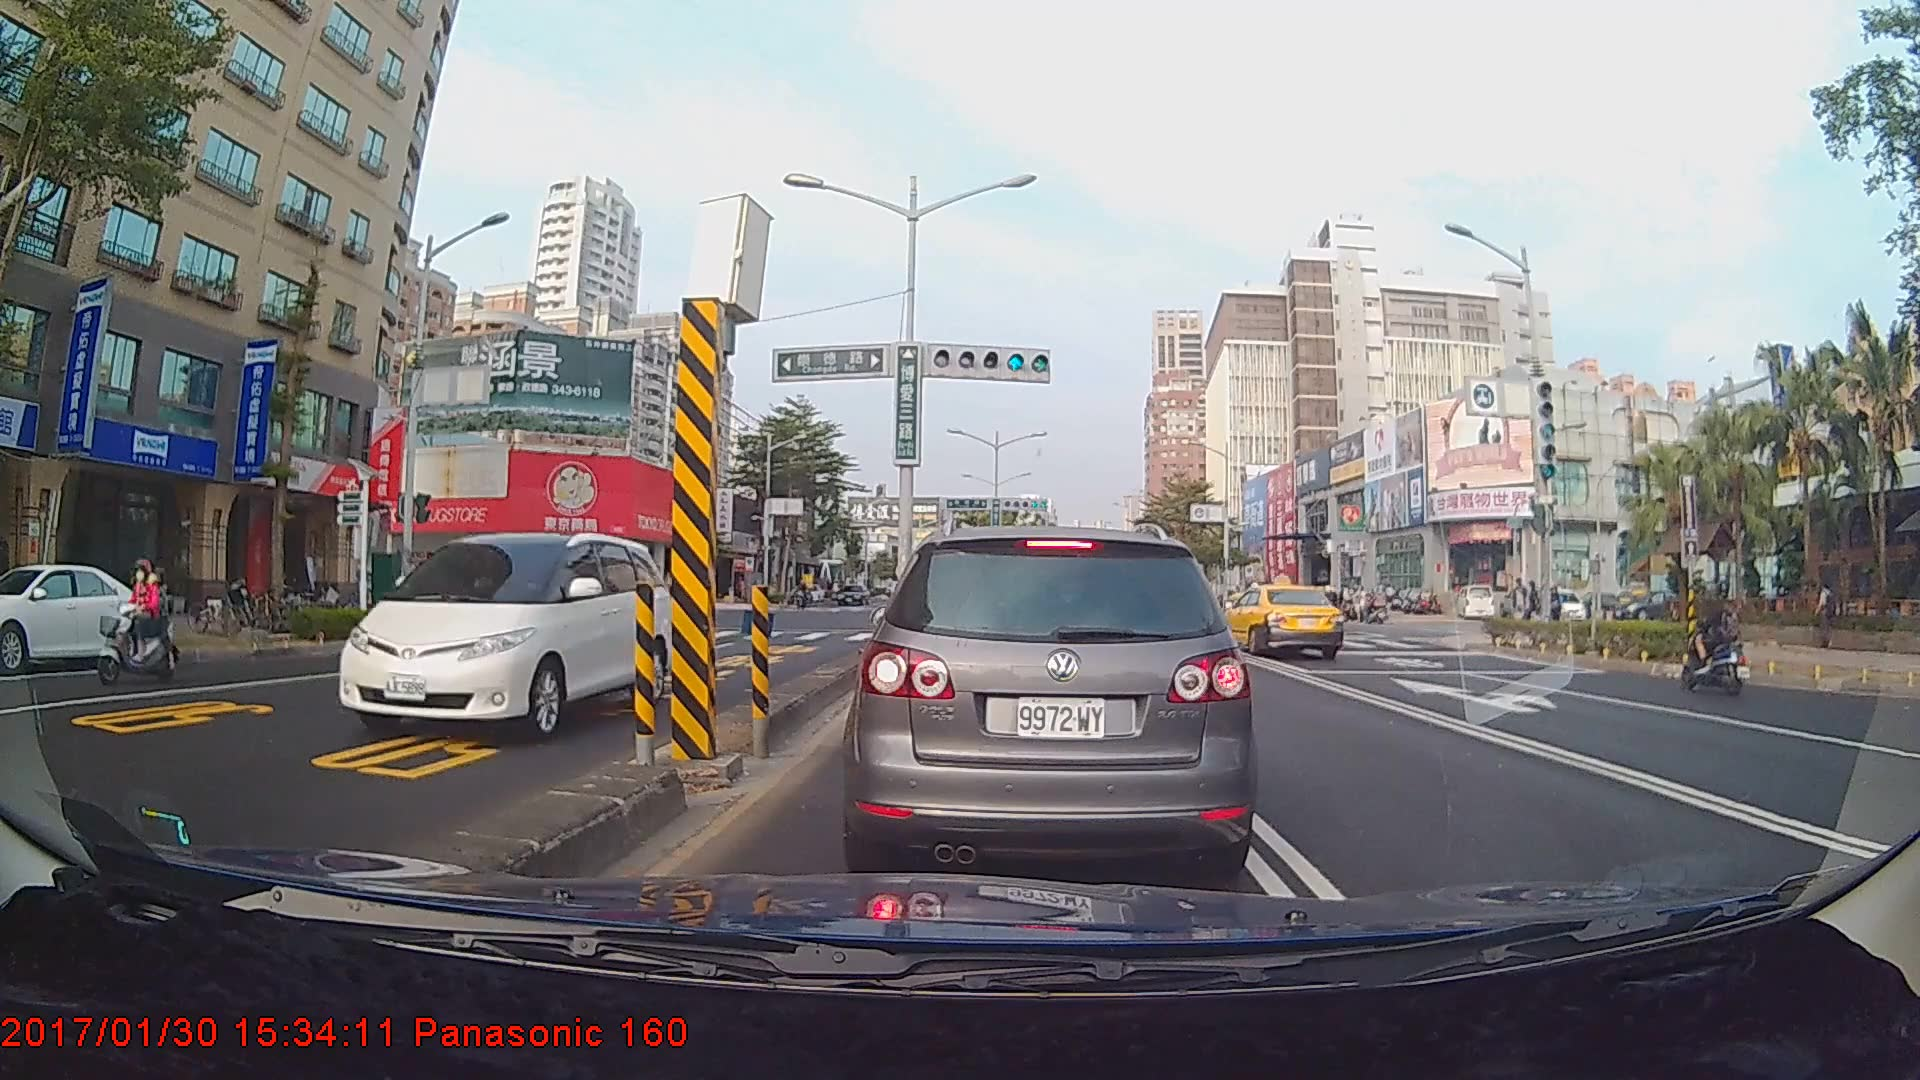pedestrian: (1814, 579, 1839, 649)
rider: (85, 557, 174, 691), (1676, 578, 1759, 701)
vehicle: (855, 521, 1247, 881), (331, 525, 676, 741), (0, 561, 158, 671), (1218, 582, 1346, 662)
